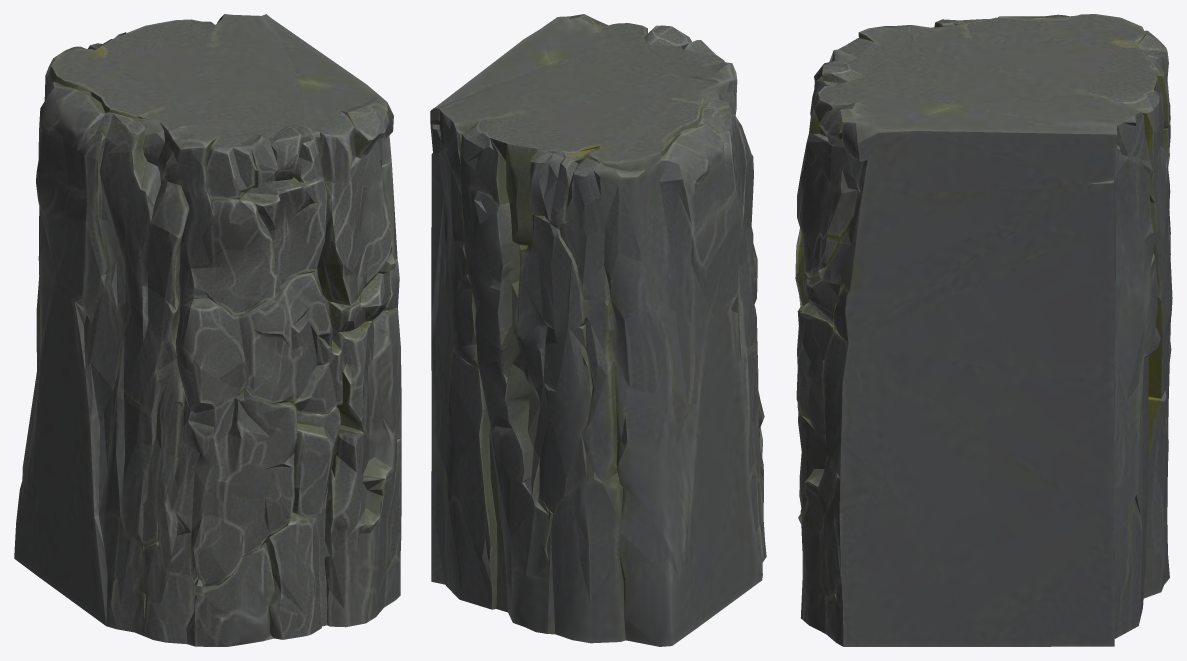
File: cliffA.glb
3 views of the same model, side by side, from view 1: azimuth 30°, elevation 25°; view 2: azimuth 150°, elevation 25°; view 3: azimuth 270°, elevation 25° (orthographic). The views are drawn at different scales.
Visible parts, largest first — view 1: output_unwrapped; view 2: output_unwrapped; view 3: output_unwrapped.
Boxes of the visible parts, x1=… form: output_unwrapped: x1=14, y1=14, x2=401, y2=646; output_unwrapped: x1=430, y1=14, x2=766, y2=646; output_unwrapped: x1=795, y1=14, x2=1172, y2=646.
Bounding box in the file's own units: 1.03 × 1.9 × 1.24.
1 material, 1 textured.
